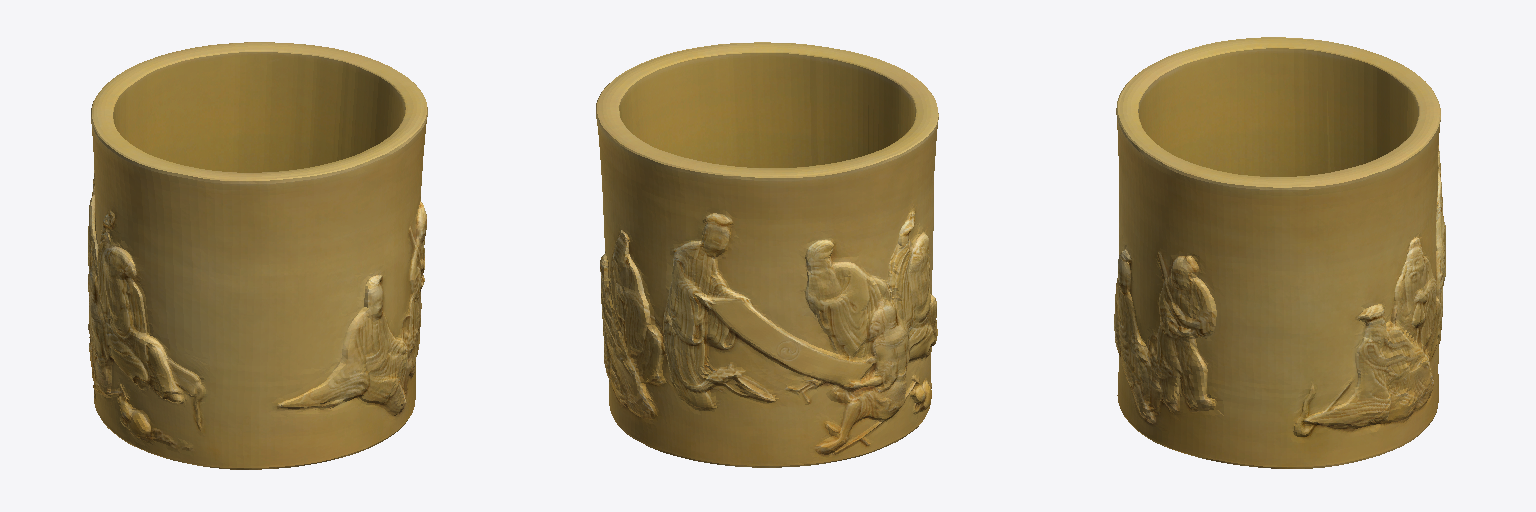
3 renders of one model, left to right at view 1: azimuth 30°, elevation 25°; view 2: azimuth 150°, elevation 25°; view 3: azimuth 270°, elevation 25°, orthographic.
Parts seen in each view (by area): view 1: SZB_ZL_13; view 2: SZB_ZL_13; view 3: SZB_ZL_13.
Boxes of the visible parts, x1=… form: SZB_ZL_13: x1=88, y1=42, x2=427, y2=469; SZB_ZL_13: x1=596, y1=42, x2=938, y2=467; SZB_ZL_13: x1=1114, y1=37, x2=1445, y2=468.
Size of the model in its own units: 15.64 by 14.66 by 14.9.
1 materials, 1 textured.